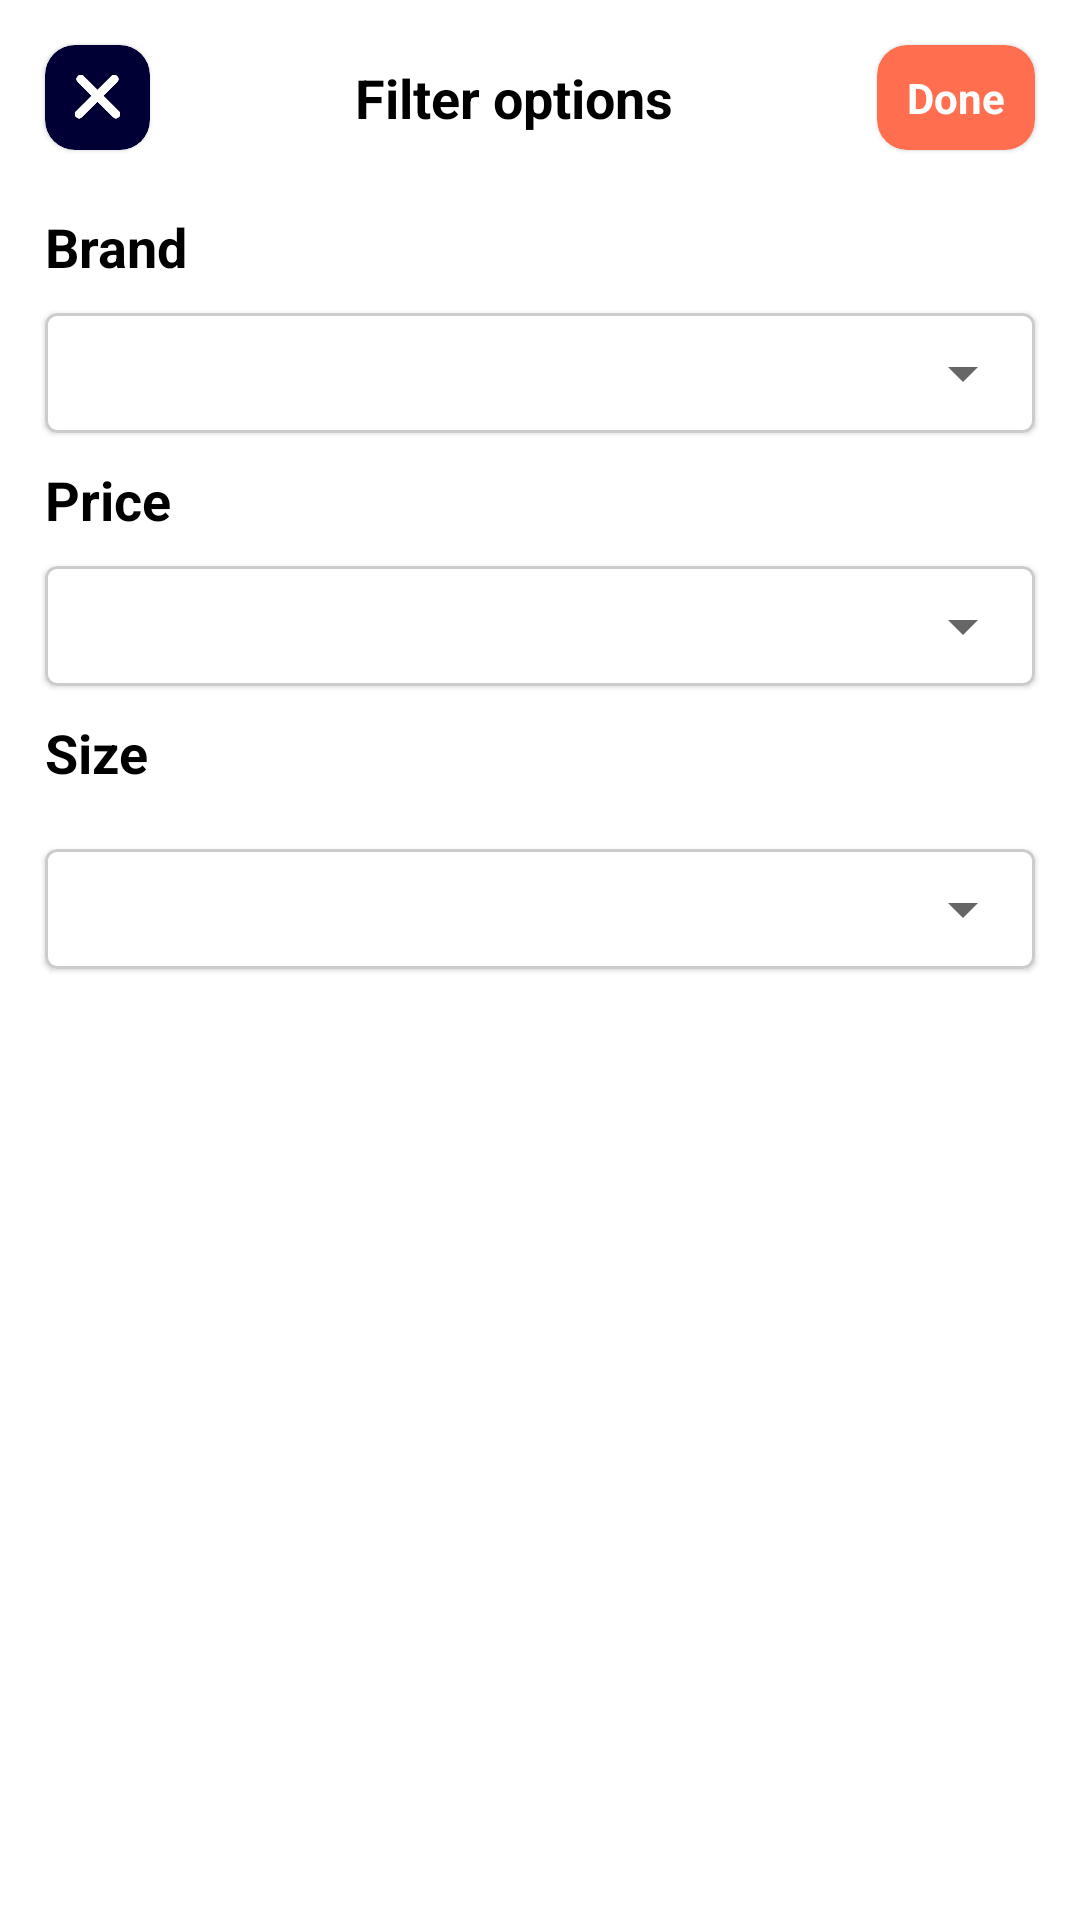

Where icons sit on this 1080px x 1920px app screen, as (x1, y1, x2, y2):
close: (75, 75, 120, 119)
